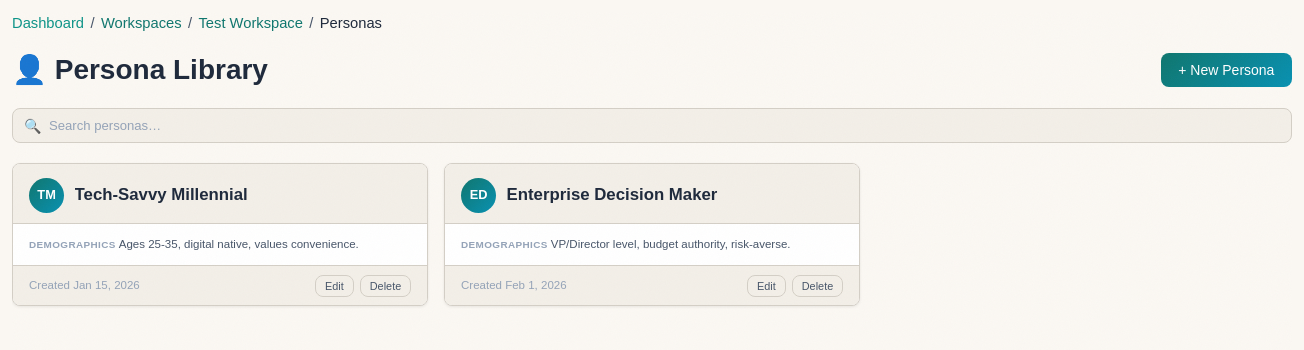
PersonaLibrary — search › filters personas by search query
Expected: the text "Tech-Savvy Millennial" is shown, [75, 185, 248, 204]
Type "Enterprise" into the search field with placeholder "Search personas…" at (652, 126), box [12, 108, 1292, 143]
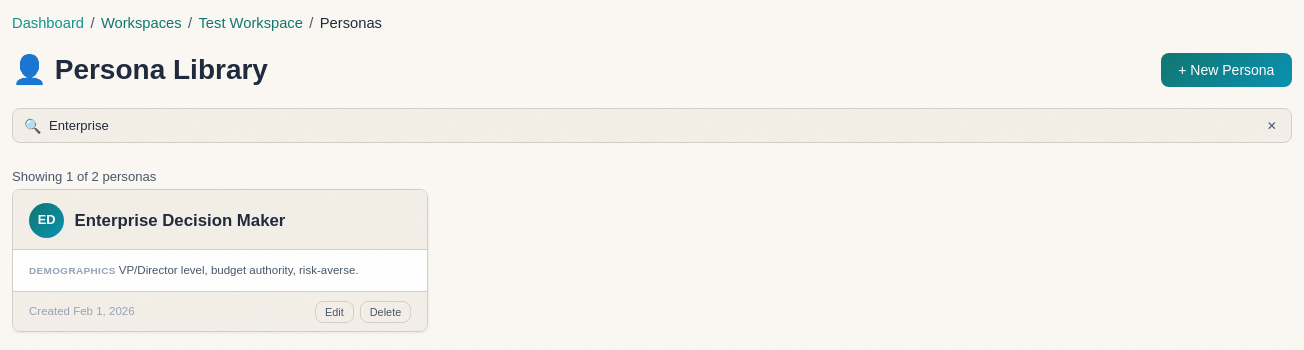
Expected: the text "Enterprise Decision Maker" is shown, [75, 210, 285, 229]
Expected: the text "Tech-Savvy Millennial" is gone
